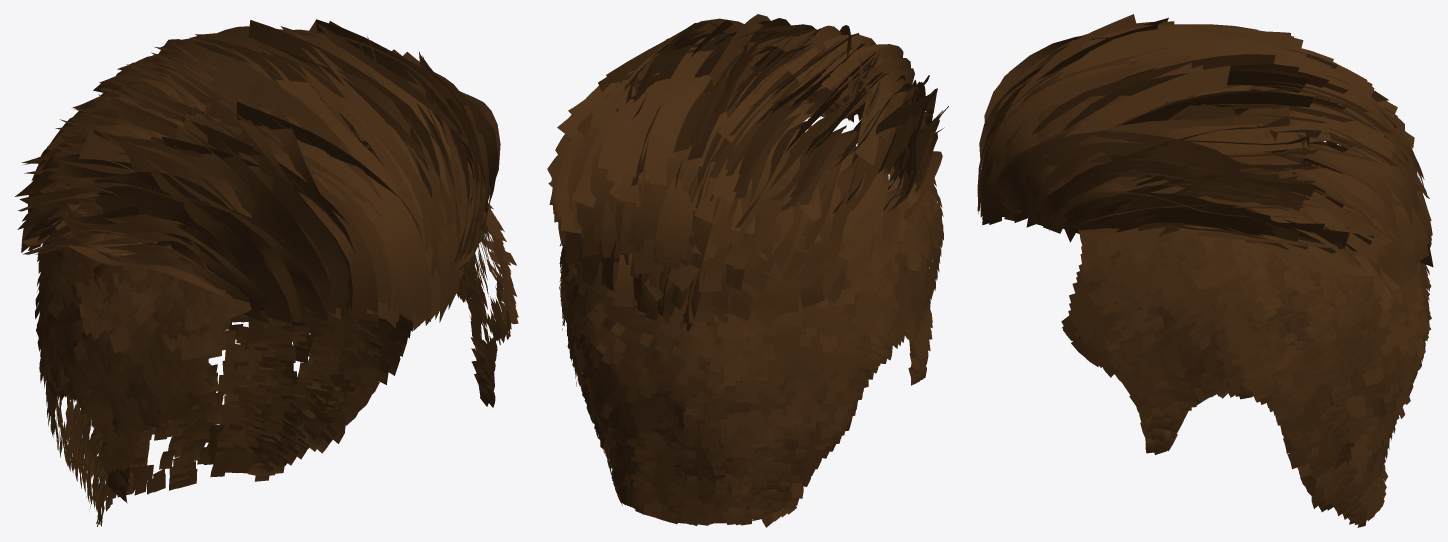
File: hairStyle007.fbx
The picture shows the model from 3 angles, left to right: view 1: azimuth 30°, elevation 25°; view 2: azimuth 150°, elevation 25°; view 3: azimuth 270°, elevation 25°; orthographic projection. The views are drawn at different scales.
Parts seen in each view (by area): view 1: hairStyle007; view 2: hairStyle007; view 3: hairStyle007.
Boxes of the visible parts, x1,y1,x2,y2 form: hairStyle007: (15,19,518,526); hairStyle007: (547,14,948,527); hairStyle007: (977,14,1433,527).
Bounding box in the file's own units: 16.05 × 19.67 × 17.93.
